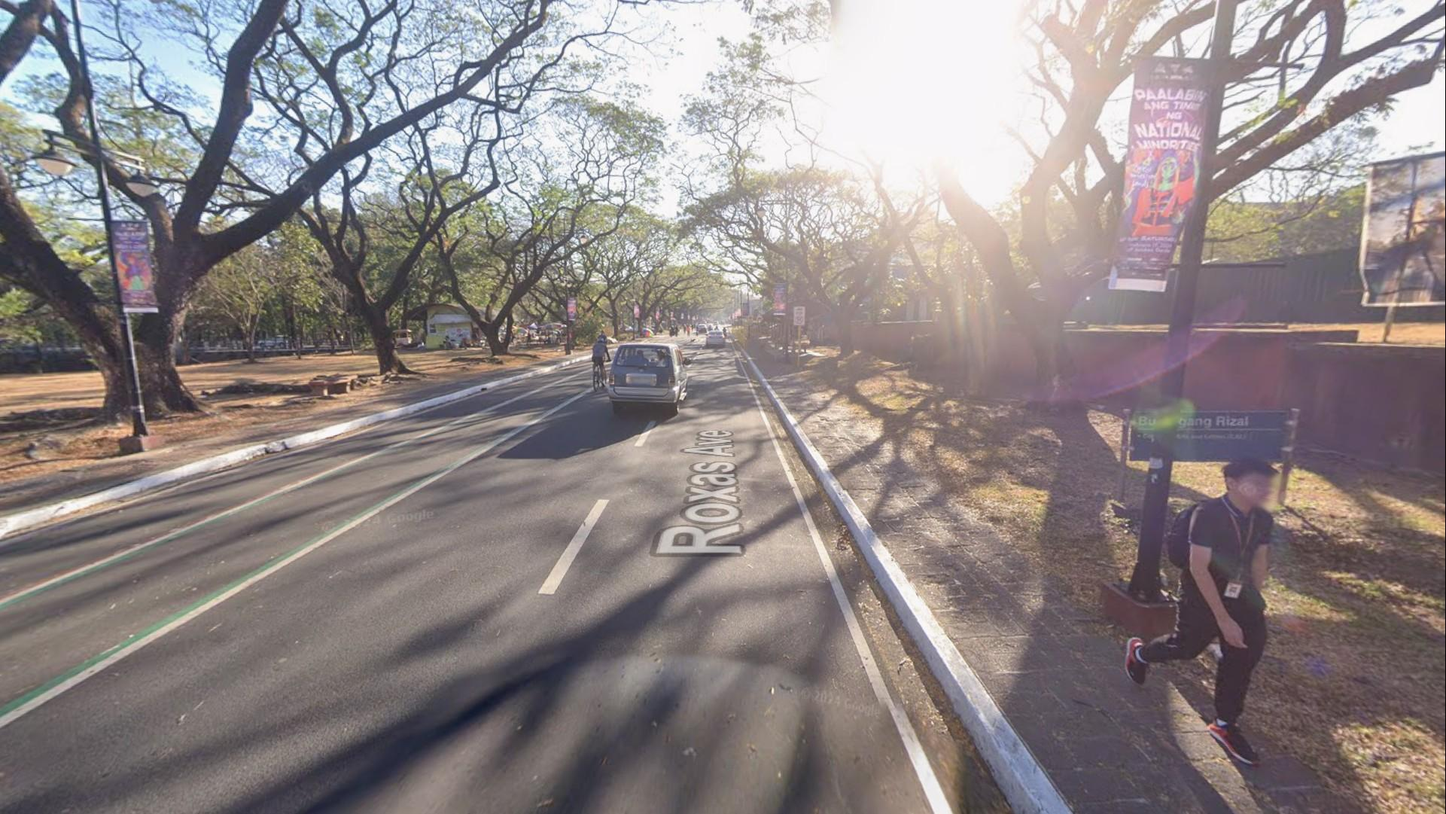cyclist: (591, 337, 611, 392)
pedestrian: (1123, 451, 1282, 768), (597, 330, 608, 353), (674, 325, 680, 338), (686, 325, 690, 337), (683, 325, 686, 334)
